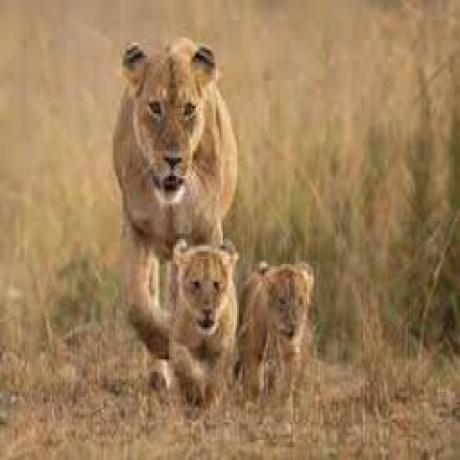Lion: (115, 36, 238, 413), (237, 258, 318, 402), (172, 234, 238, 400)
